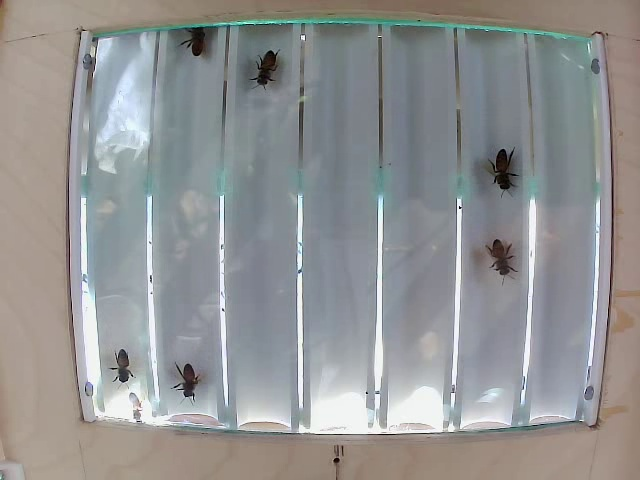bee: (486, 238, 519, 285), (249, 48, 278, 90), (493, 151, 521, 190), (180, 358, 202, 402), (109, 349, 135, 385)
